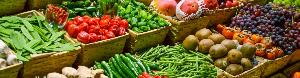bell_pepper: (68, 1, 132, 48), (104, 2, 168, 36), (95, 53, 155, 78), (46, 2, 74, 28)
grape: (238, 0, 300, 50)
kiwi: (182, 26, 258, 76)
persimmon: (212, 23, 286, 61)
